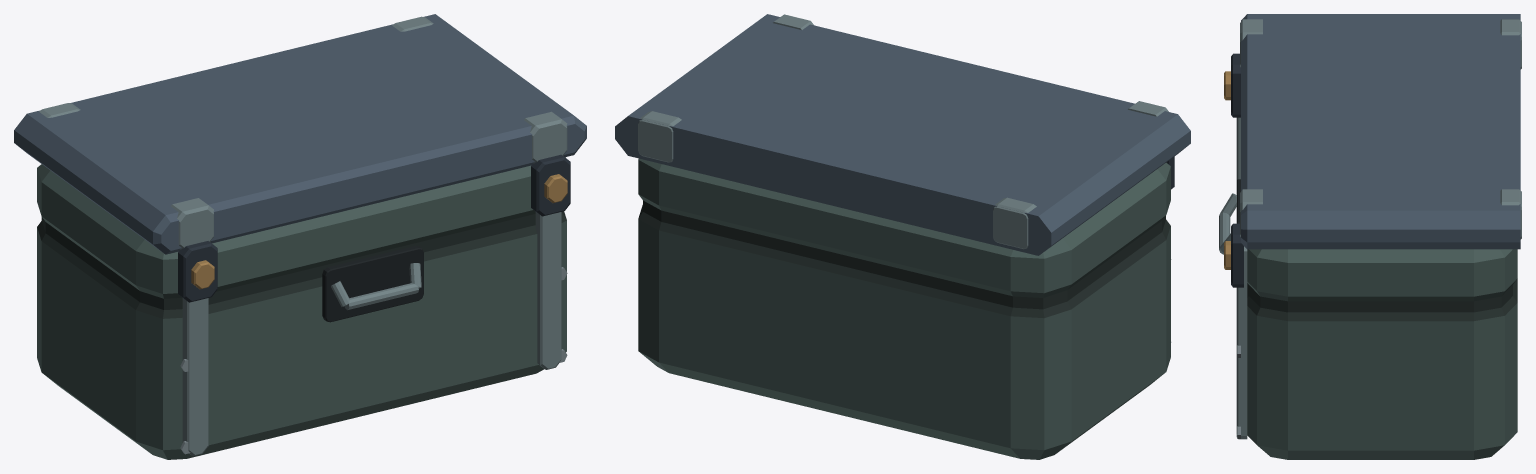
Rendered from B-02a_metal_trunk.glb.
3 views of the same model, side by side, from view 1: azimuth 30°, elevation 25°; view 2: azimuth 150°, elevation 25°; view 3: azimuth 270°, elevation 25° (orthographic).
Parts seen in each view (by area): view 1: B-02a_metal_trunk; view 2: B-02a_metal_trunk; view 3: B-02a_metal_trunk.
Boxes of the visible parts, x1,y1,x2,y2 form: B-02a_metal_trunk: (14, 14, 586, 459); B-02a_metal_trunk: (615, 14, 1190, 459); B-02a_metal_trunk: (1219, 14, 1521, 459).
Size of the model in its own units: 0.885 by 0.5035 by 0.5425.
